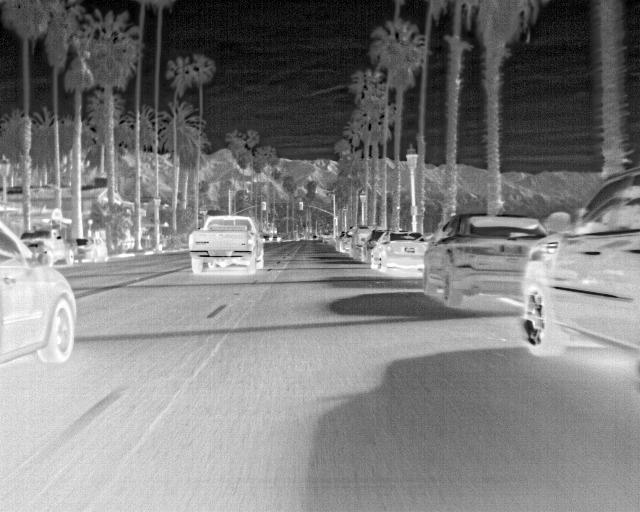car: (520, 168, 639, 359), (421, 212, 543, 312), (0, 218, 78, 367), (188, 213, 263, 272), (22, 226, 75, 265), (370, 232, 423, 270), (76, 234, 106, 262), (350, 224, 369, 258), (360, 229, 380, 260), (338, 230, 351, 250)
